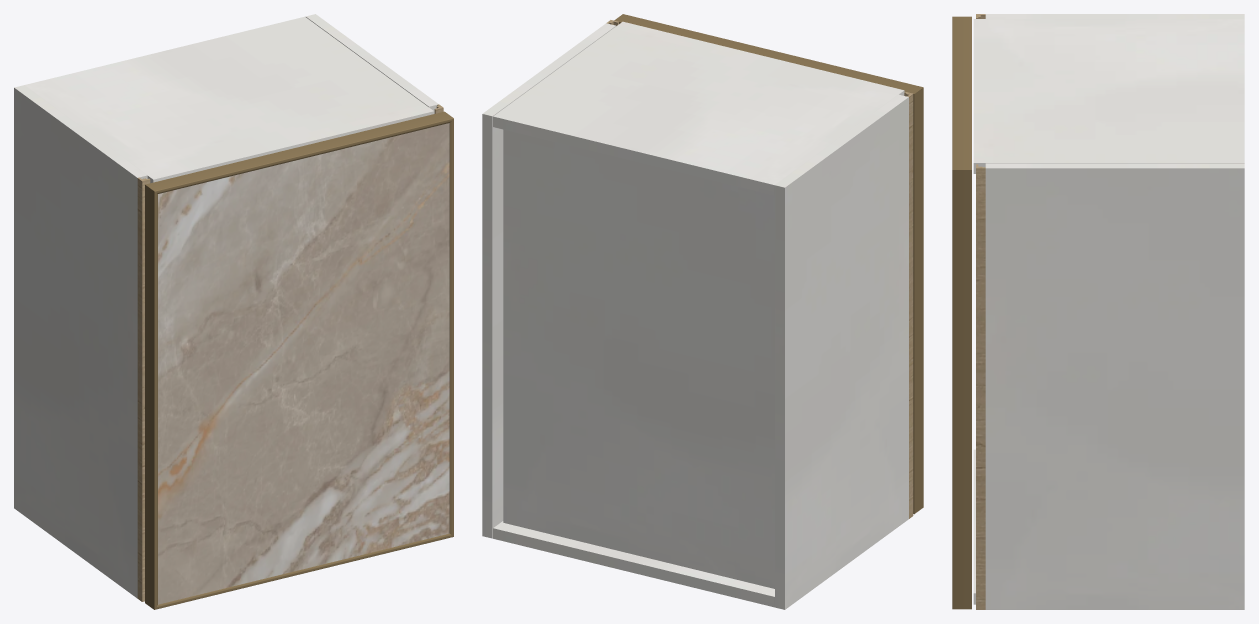
The model's file is LO-SH-NHX-ST-1SX-LHS-XXX-450-600-336-15.glb.
The picture shows the model from 3 angles, left to right: view 1: azimuth 30°, elevation 25°; view 2: azimuth 150°, elevation 25°; view 3: azimuth 270°, elevation 25°; orthographic projection. The views are drawn at different scales.
Visible parts, largest first — view 1: Object_node_4, TP_node_0, TP, Extrusion_node_1, Extrusion, Object_node_6, Extrusion_node, Extrusion_node_0, TP_node_1; view 2: TP_node_2, TP_node_0, TP, TP_node_1, TP_node, Extrusion_node_1, Extrusion, Object_node_6; view 3: TP_node_1, TP, Extrusion_node, Object_node_12, Extrusion, TP_node_0, TP_node.
Part boxes in pixels (x1=…): Object_node_4: x1=158, y1=123, x2=449, y2=604; TP_node_0: x1=14, y1=85, x2=147, y2=598; TP: x1=24, y1=16, x2=434, y2=183; Extrusion_node_1: x1=145, y1=185, x2=157, y2=609; Extrusion: x1=145, y1=111, x2=453, y2=193; Object_node_6: x1=137, y1=177, x2=150, y2=601; Extrusion_node: x1=449, y1=119, x2=453, y2=536; Extrusion_node_0: x1=155, y1=533, x2=453, y2=609; TP_node_1: x1=305, y1=14, x2=438, y2=113; TP_node_2: x1=503, y1=129, x2=774, y2=588; TP_node_0: x1=775, y1=94, x2=908, y2=609; TP: x1=493, y1=21, x2=904, y2=195; TP_node_1: x1=482, y1=23, x2=615, y2=538; TP_node: x1=493, y1=521, x2=774, y2=607; Extrusion_node_1: x1=913, y1=87, x2=923, y2=513; Extrusion: x1=614, y1=14, x2=922, y2=94; Object_node_6: x1=904, y1=91, x2=913, y2=518; TP_node_1: x1=985, y1=163, x2=1244, y2=609; TP: x1=973, y1=19, x2=1244, y2=173; Extrusion_node: x1=952, y1=170, x2=971, y2=609; Object_node_12: x1=976, y1=164, x2=985, y2=609; Extrusion: x1=952, y1=16, x2=971, y2=169; TP_node_0: x1=985, y1=14, x2=1244, y2=18; TP_node: x1=973, y1=449, x2=975, y2=604.
Size of what is drawn, in the model's own units: 0.45 by 0.6 by 0.3602.
Materials: 7 (3 with a texture image).
